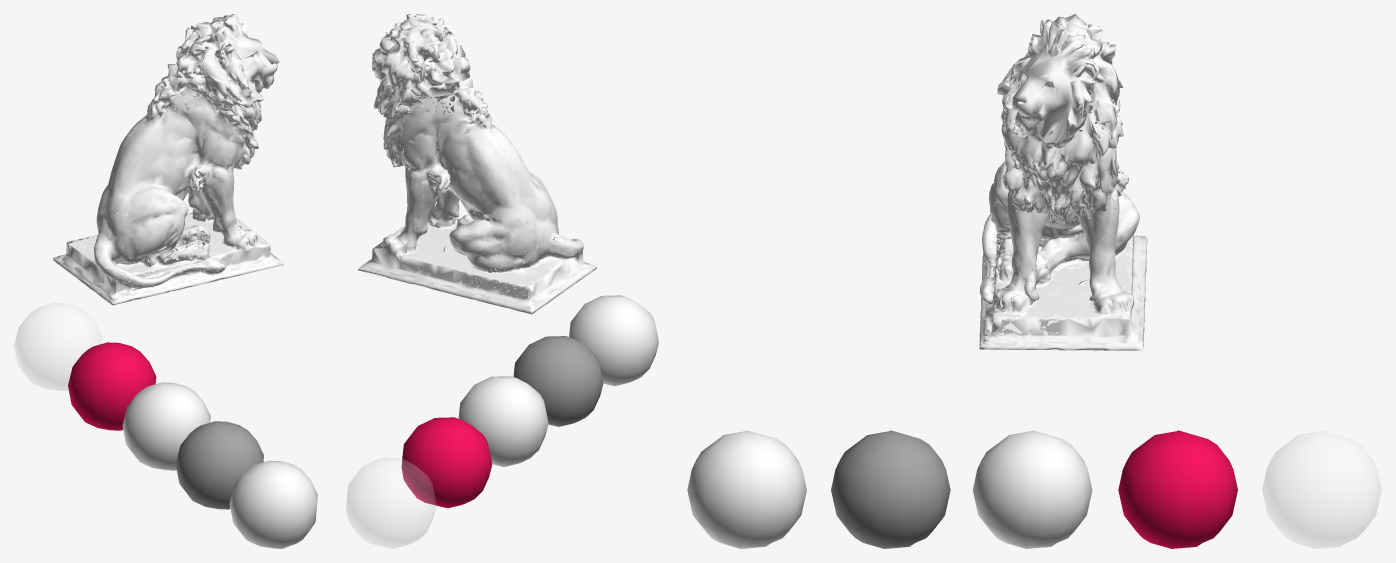
File: materials-low.glb
3 views of the same model, side by side, from view 1: azimuth 30°, elevation 25°; view 2: azimuth 150°, elevation 25°; view 3: azimuth 270°, elevation 25° (orthographic). The views are drawn at different scales.
Parts seen in each view (by area): view 1: Object_3.001, Object_2.001, Object_6.001, Sphere1, Sphere5, Sphere3, Sphere4, Sphere2, Object_4.001, Object_5.001, Object_7.001; view 2: Object_3.001, Object_4.001, Object_5.001, Object_6.001, Sphere5, Sphere2, Sphere4, Sphere1, Sphere3, Object_2.001; view 3: Object_4.001, Object_6.001, Sphere3, Sphere4, Sphere5, Sphere1, Sphere2, Object_2.001, Object_5.001, Object_3.001, Object_7.001.
Boxes of the visible parts, left/top/right/bottom form: Object_3.001: left=70, top=74, right=283, bottom=305; Object_2.001: left=53, top=166, right=278, bottom=304; Object_6.001: left=135, top=14, right=279, bottom=281; Sphere1: left=229, top=460, right=317, bottom=548; Sphere5: left=68, top=342, right=156, bottom=430; Sphere3: left=175, top=421, right=263, bottom=509; Sphere4: left=122, top=382, right=210, bottom=470; Sphere2: left=14, top=303, right=101, bottom=390; Object_4.001: left=80, top=77, right=261, bottom=302; Object_5.001: left=55, top=54, right=262, bottom=300; Object_7.001: left=53, top=224, right=280, bottom=303; Object_3.001: left=358, top=92, right=595, bottom=305; Object_4.001: left=358, top=93, right=594, bottom=301; Object_5.001: left=373, top=76, right=593, bottom=312; Object_6.001: left=372, top=14, right=540, bottom=246; Sphere5: left=401, top=417, right=491, bottom=508; Sphere2: left=346, top=458, right=436, bottom=548; Sphere4: left=458, top=376, right=548, bottom=466; Sphere1: left=569, top=295, right=658, bottom=386; Sphere3: left=513, top=336, right=603, bottom=426; Object_2.001: left=395, top=137, right=596, bottom=314; Object_4.001: left=982, top=84, right=1145, bottom=348; Object_6.001: left=988, top=14, right=1122, bottom=342; Sphere3: left=831, top=430, right=950, bottom=548; Sphere4: left=972, top=430, right=1092, bottom=548; Sphere5: left=1118, top=430, right=1237, bottom=548; Sphere1: left=687, top=430, right=806, bottom=548; Sphere2: left=1262, top=431, right=1381, bottom=548; Object_2.001: left=980, top=165, right=1147, bottom=342; Object_5.001: left=982, top=58, right=1146, bottom=333; Object_3.001: left=979, top=100, right=1145, bottom=350; Object_7.001: left=980, top=239, right=1146, bottom=350.
Size of the model in its own units: 0.1181 by 0.2612 by 0.29.
